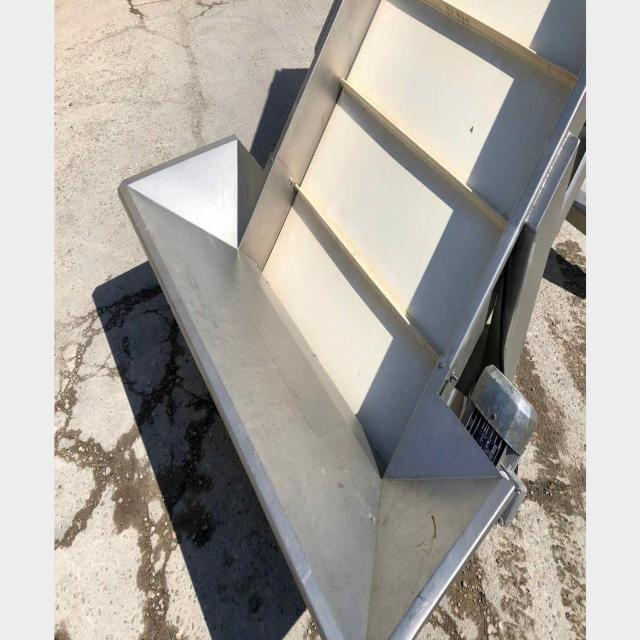Convoyeur: (93, 1, 582, 637)
